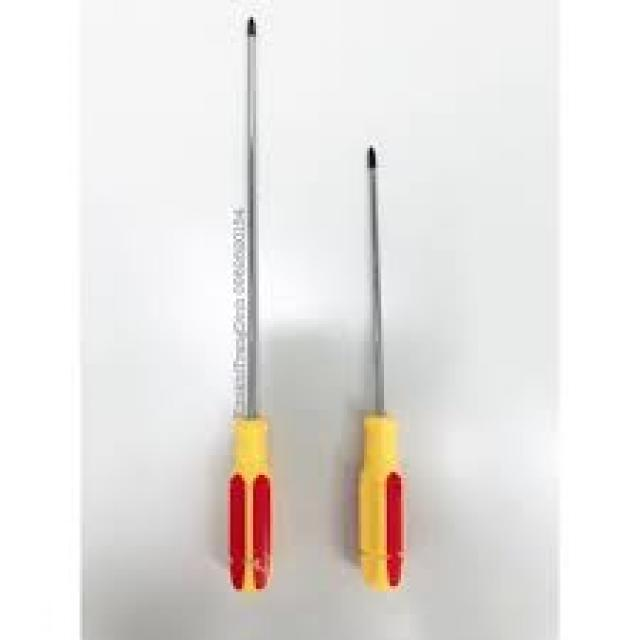screwdriver: (226, 14, 275, 595), (354, 142, 405, 595)
